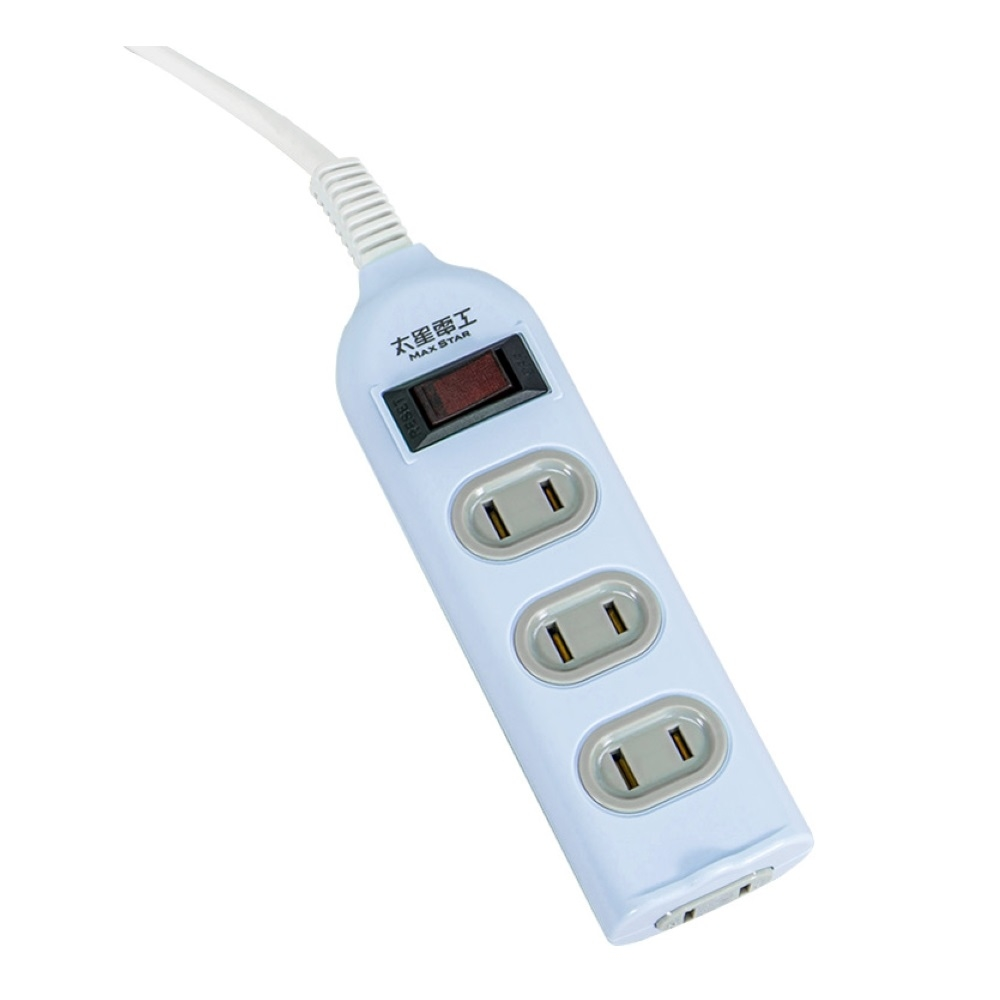socket: (304, 153, 819, 947)
